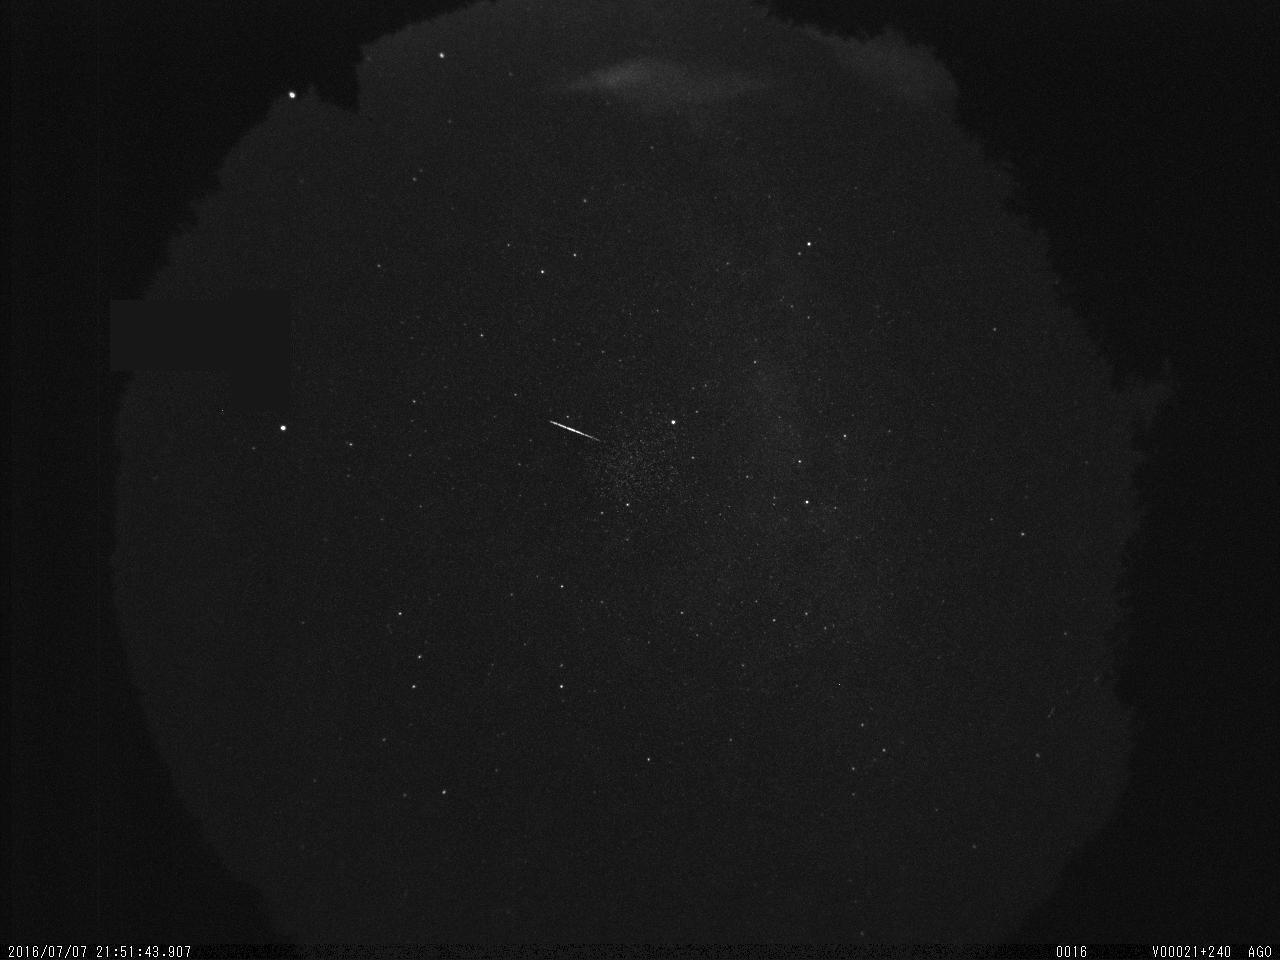Meteor: (547, 417, 603, 443)
